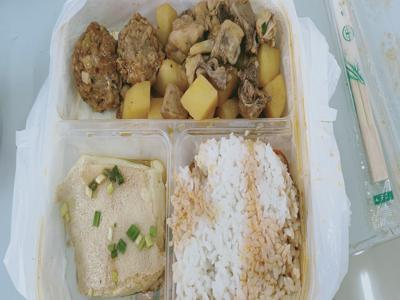df: (58, 138, 171, 299)
jrtd: (152, 4, 306, 122)
rice: (175, 134, 313, 300)
wz: (68, 7, 163, 110)
